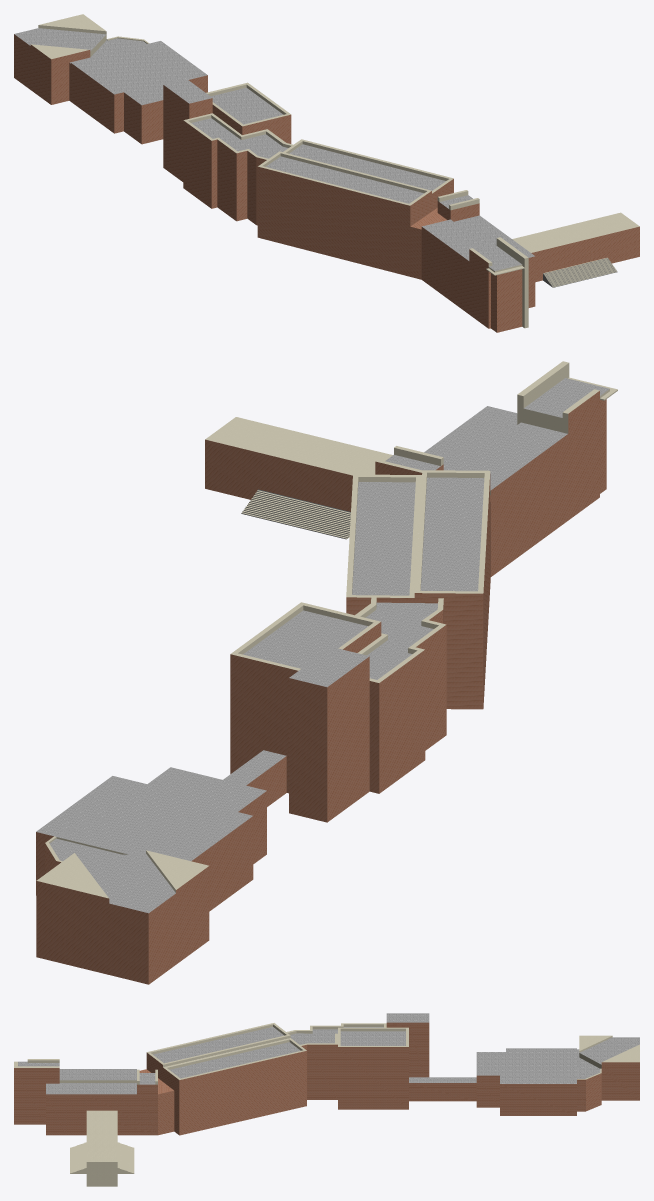
The picture shows the model from 3 angles, top to bottom: view 1: azimuth 30°, elevation 25°; view 2: azimuth 150°, elevation 25°; view 3: azimuth 270°, elevation 25°; orthographic projection. The views are drawn at different scales.
Parts seen in each view (by area): view 1: root; view 2: root; view 3: root.
Boxes of the visible parts, x1=… form: root: x1=14, y1=14, x2=639, y2=332; root: x1=36, y1=361, x2=617, y2=984; root: x1=14, y1=1013, x2=639, y2=1186.
Bounding box in the file's own units: 97.81 × 27.14 × 228.
7 materials, 3 textured.
